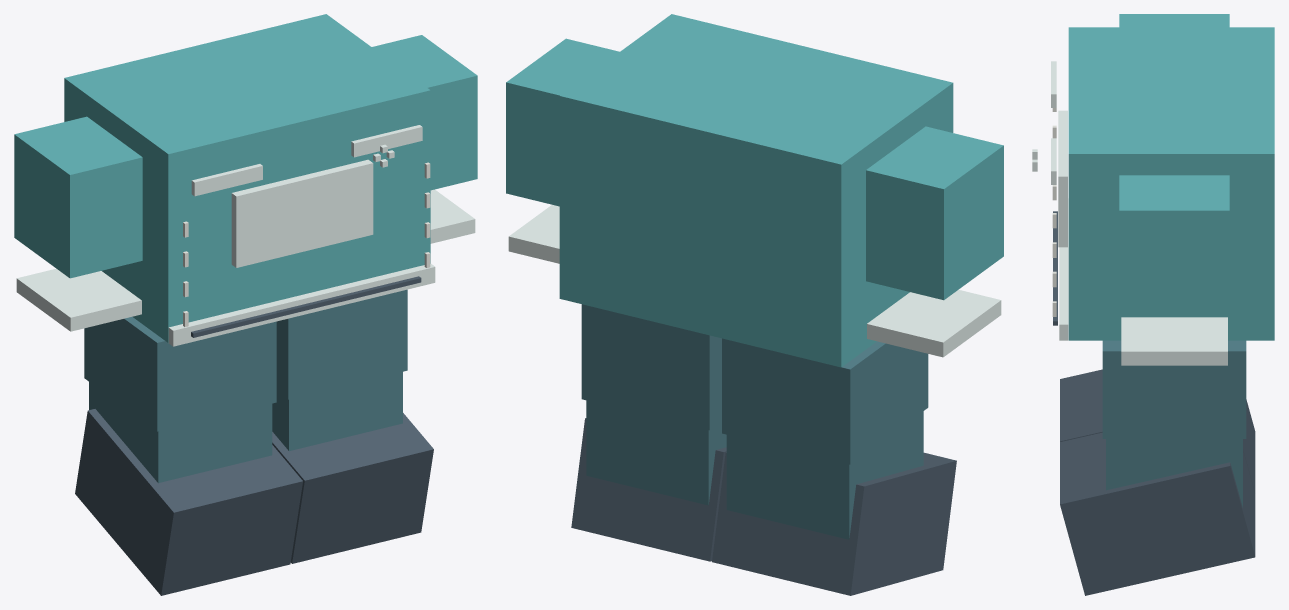
File: casual-teal.glb
3 renders of one model, left to right at view 1: azimuth 30°, elevation 25°; view 2: azimuth 150°, elevation 25°; view 3: azimuth 270°, elevation 25°, orthographic. The views are drawn at different scales.
Parts seen in each view (by area): view 1: jacket, shoe-Right, upper-sleeve-Right, trouser-Right, shoe-Left, tee-panel, trouser-Left, lower-trouser-Right, upper-sleeve-Left, lower-trouser-Left, cuff-Right, tee-hem (+4 smaller); view 2: jacket, upper-sleeve-Right, trouser-Right, shoe-Right, trouser-Left, lower-trouser-Right, lower-trouser-Left, upper-sleeve-Left, shoe-Left, cuff-Right, cuff-Left; view 3: jacket, shoe-Left, upper-sleeve-Left, trouser-Left, lower-trouser-Left, cuff-Left, shoe-Right, upper-sleeve-Right, tee-panel, tee-hem, design-casual-double-hem.
Part boxes in pixels (x1=…): jacket: x1=64, y1=14, x2=430, y2=342; shoe-Right: x1=75, y1=409, x2=302, y2=595; upper-sleeve-Right: x1=14, y1=116, x2=142, y2=278; trouser-Right: x1=84, y1=317, x2=276, y2=431; shoe-Left: x1=272, y1=413, x2=433, y2=563; tee-panel: x1=231, y1=159, x2=373, y2=267; trouser-Left: x1=276, y1=289, x2=407, y2=399; lower-trouser-Right: x1=89, y1=382, x2=272, y2=482; upper-sleeve-Left: x1=372, y1=35, x2=477, y2=190; lower-trouser-Left: x1=272, y1=372, x2=402, y2=451; cuff-Right: x1=16, y1=268, x2=141, y2=331; tee-hem: x1=168, y1=263, x2=435, y2=346; jacket: x1=559, y1=14, x2=953, y2=367; upper-sleeve-Right: x1=866, y1=126, x2=1003, y2=300; trouser-Right: x1=722, y1=338, x2=928, y2=464; shoe-Right: x1=712, y1=452, x2=956, y2=595; trouser-Left: x1=581, y1=304, x2=721, y2=430; lower-trouser-Right: x1=726, y1=411, x2=923, y2=539; lower-trouser-Left: x1=586, y1=400, x2=726, y2=505; upper-sleeve-Left: x1=506, y1=38, x2=619, y2=206; shoe-Left: x1=571, y1=418, x2=726, y2=561; cuff-Right: x1=867, y1=289, x2=1001, y2=357; cuff-Left: x1=508, y1=204, x2=559, y2=263; jacket: x1=1068, y1=27, x2=1274, y2=340; shoe-Left: x1=1060, y1=432, x2=1255, y2=595; upper-sleeve-Left: x1=1119, y1=175, x2=1229, y2=312; trouser-Left: x1=1102, y1=340, x2=1246, y2=438; lower-trouser-Left: x1=1106, y1=439, x2=1242, y2=507; cuff-Left: x1=1121, y1=317, x2=1227, y2=365; shoe-Right: x1=1060, y1=369, x2=1255, y2=493; upper-sleeve-Right: x1=1119, y1=14, x2=1229, y2=27; tee-panel: x1=1058, y1=110, x2=1067, y2=247; tee-hem: x1=1059, y1=198, x2=1068, y2=340; design-casual-double-hem: x1=1053, y1=211, x2=1057, y2=325.
Size of the model in its own units: 1.07 by 1.13 by 0.559.
